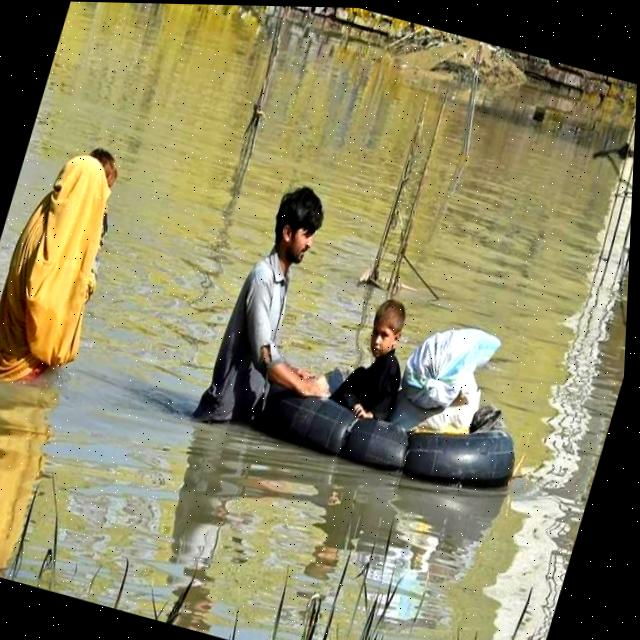civilian: (186, 165, 354, 447), (0, 117, 145, 412), (314, 277, 436, 430), (45, 129, 145, 295)
